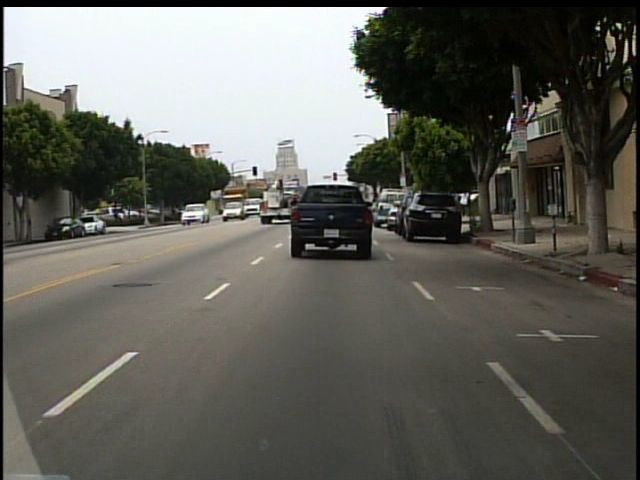person: (460, 186, 472, 217)
